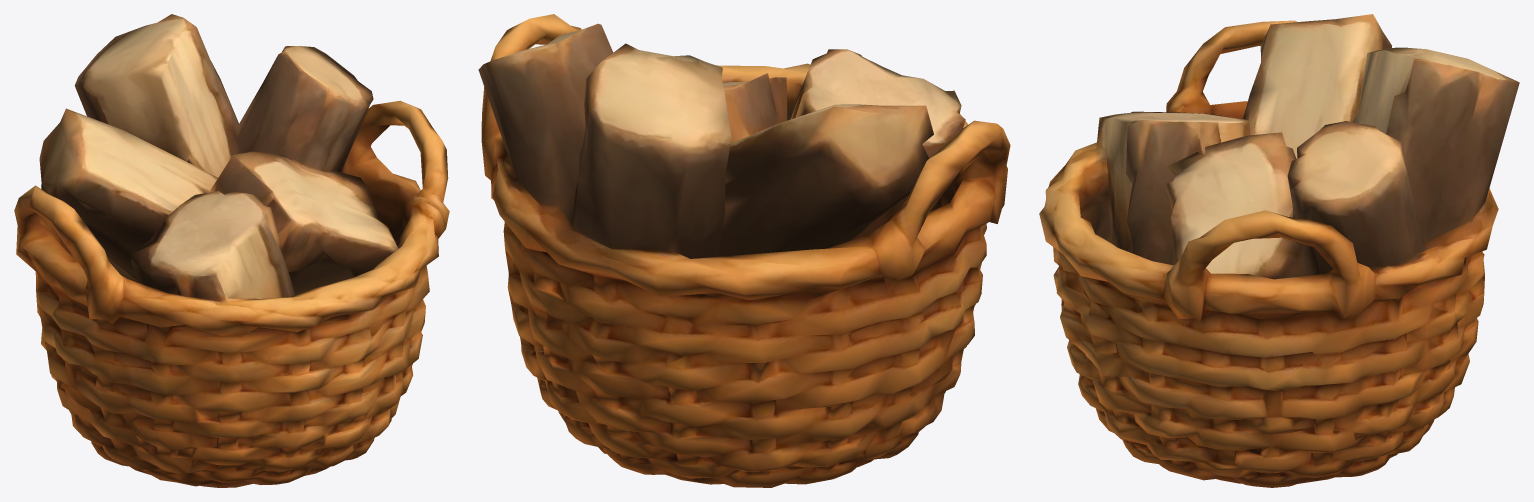
Rendered from logs.glb.
3 views of the same model, side by side, from view 1: azimuth 30°, elevation 25°; view 2: azimuth 150°, elevation 25°; view 3: azimuth 270°, elevation 25° (orthographic). The views are drawn at different scales.
Visible parts, largest first — view 1: tripo_node_031f3d51-e7a1-4979-aae0-13f36b8e23d4; view 2: tripo_node_031f3d51-e7a1-4979-aae0-13f36b8e23d4; view 3: tripo_node_031f3d51-e7a1-4979-aae0-13f36b8e23d4.
Part boxes in pixels (x1,y1,x2,y2): tripo_node_031f3d51-e7a1-4979-aae0-13f36b8e23d4: (14,14,449,487); tripo_node_031f3d51-e7a1-4979-aae0-13f36b8e23d4: (478,14,1010,487); tripo_node_031f3d51-e7a1-4979-aae0-13f36b8e23d4: (1039,14,1519,487).
Bounding box in the file's own units: 1 × 0.8612 × 0.9833.
1 material, 1 textured.
